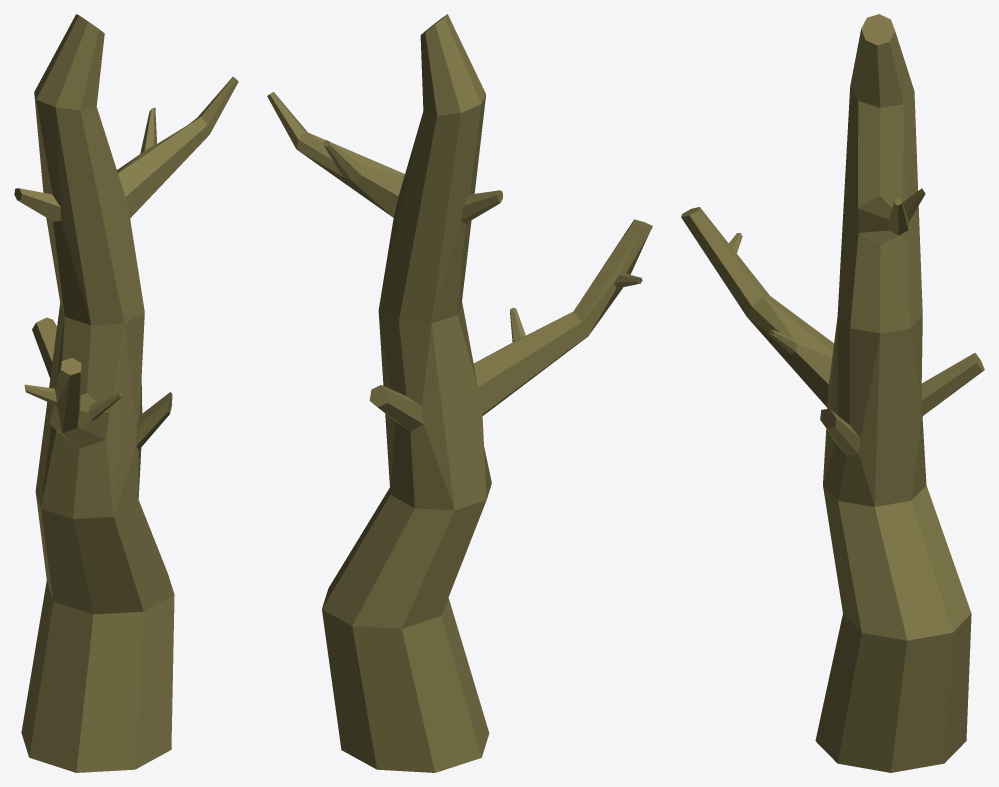
File: Tree_Dead_Big.fbx
3 views of the same model, side by side, from view 1: azimuth 30°, elevation 25°; view 2: azimuth 150°, elevation 25°; view 3: azimuth 270°, elevation 25° (orthographic). The views are drawn at different scales.
Visible parts, largest first — view 1: Tree_Dead; view 2: Tree_Dead; view 3: Tree_Dead.
Part boxes in pixels (box(x1,y1,x2,y2)): Tree_Dead: box(14, 14, 238, 772); Tree_Dead: box(267, 14, 652, 772); Tree_Dead: box(681, 14, 984, 772).
Size of the model in its own units: 4.4 by 10.46 by 4.02.
